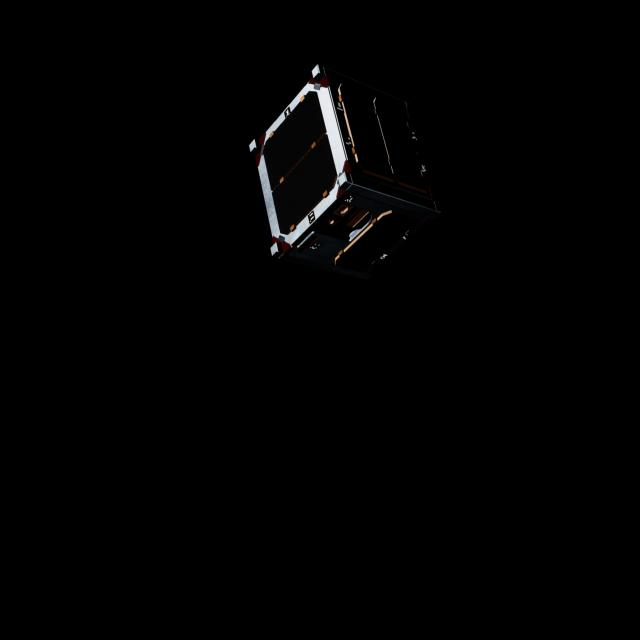satellite: (243, 61, 450, 287)
